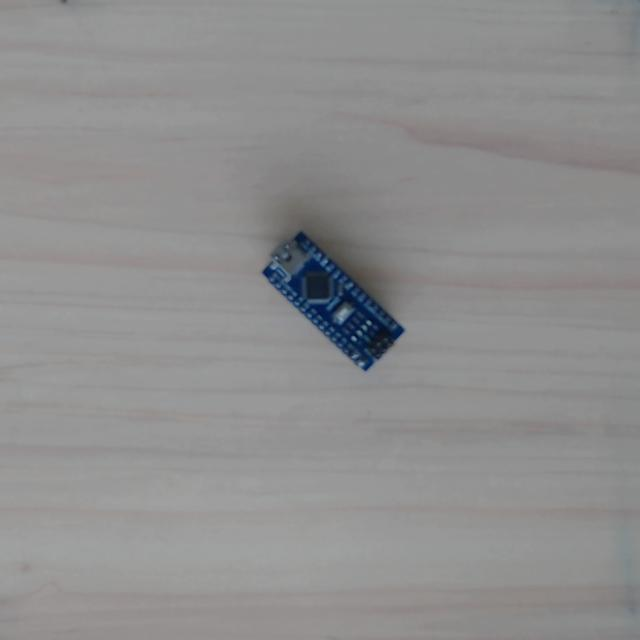Arduino-Nano: (256, 227, 406, 373)
